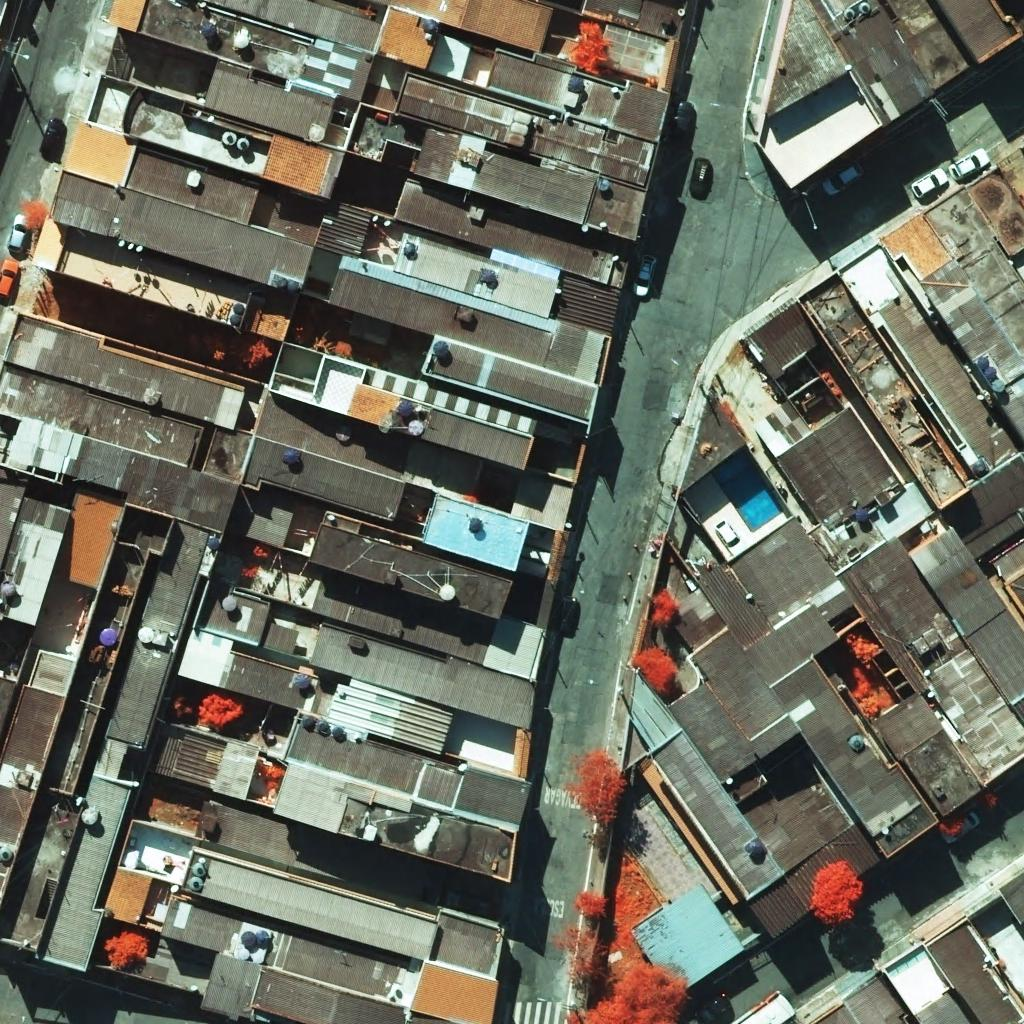pool: (710, 446, 784, 533)
